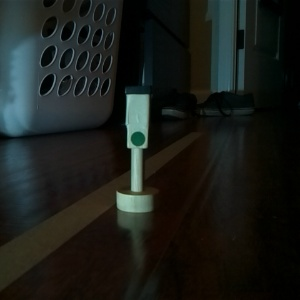traffic light green: (114, 83, 161, 213)
